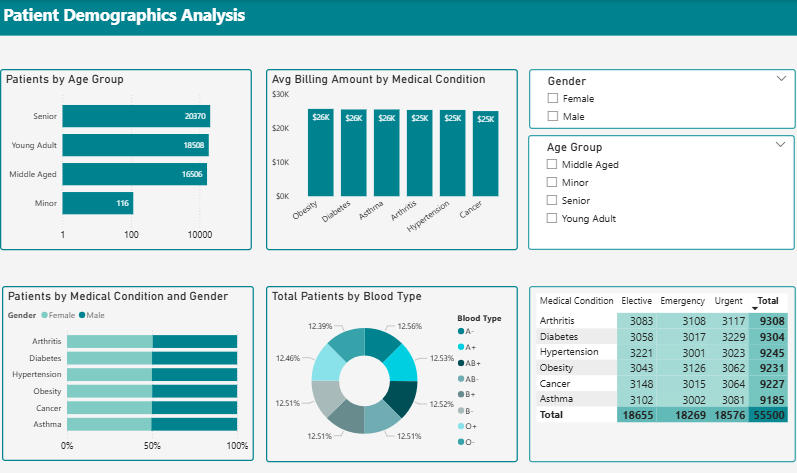

Layout of this report page (visuals, bound fields, positions):
{"tool":"powerbi","page":{"name":"Patient Demographics","canvas":[1280,800],"ordinal":1},"visuals":[{"type":"textbox","box":[0,0,1281,57],"z":0},{"type":"clusteredBarChart","title":" Patients by Age Group","fields":{"Category":["healthcare_dataset.Age Group"],"Y":["_Measures.Total Patients"]},"box":[0,110.4,403.2,289.6],"z":1000},{"type":"clusteredColumnChart","fields":{"Category":["healthcare_dataset.Medical Condition"],"Y":["_Measures.Avg Billing Amount"]},"box":[425.6,110.4,403.2,289.6],"z":2000},{"type":"hundredPercentStackedBarChart","title":"Patients by Medical Condition and Gender","fields":{"Category":["healthcare_dataset.Medical Condition"],"Y":["_Measures.Total Patients"],"Series":["healthcare_dataset.Gender"]},"box":[3.2,457.6,403.2,280],"z":3000},{"type":"donutChart","fields":{"Category":["healthcare_dataset.Blood Type"],"Y":["_Measures.Total Patients"]},"box":[425.6,457.6,403.2,281.6],"z":4000},{"type":"pivotTable","fields":{"Rows":["healthcare_dataset.Medical Condition"],"Columns":["healthcare_dataset.Admission Type"],"Values":["_Measures.Total Patients"]},"box":[846.4,457.6,427.2,281.6],"z":5000},{"type":"slicer","fields":{"Values":["healthcare_dataset.Gender"]},"box":[845.7,110,427.1,95.7],"z":6000},{"type":"slicer","fields":{"Values":["healthcare_dataset.Age Group"]},"box":[844.8,216,427.2,184],"z":7000}]}

Visuals, with their boxes on the page's 1280x800 design canvas (x1, y1, x2, y2). These are canvas units, not pixel positions in the 797x473 screenshot, which may show the page scaled, cropped or inside an application window:
textbox: detection(0, 0, 1281, 57)
" Patients by Age Group" clusteredBarChart: detection(0, 110, 403, 400)
clusteredColumnChart - healthcare_dataset.Medical Condition x _Measures.Avg Billing Amount: detection(426, 110, 829, 400)
"Patients by Medical Condition and Gender" hundredPercentStackedBarChart: detection(3, 458, 406, 738)
donutChart - healthcare_dataset.Blood Type x _Measures.Total Patients: detection(426, 458, 829, 739)
pivotTable - healthcare_dataset.Medical Condition x healthcare_dataset.Admission Type: detection(846, 458, 1274, 739)
slicer - healthcare_dataset.Gender: detection(846, 110, 1273, 206)
slicer - healthcare_dataset.Age Group: detection(845, 216, 1272, 400)
